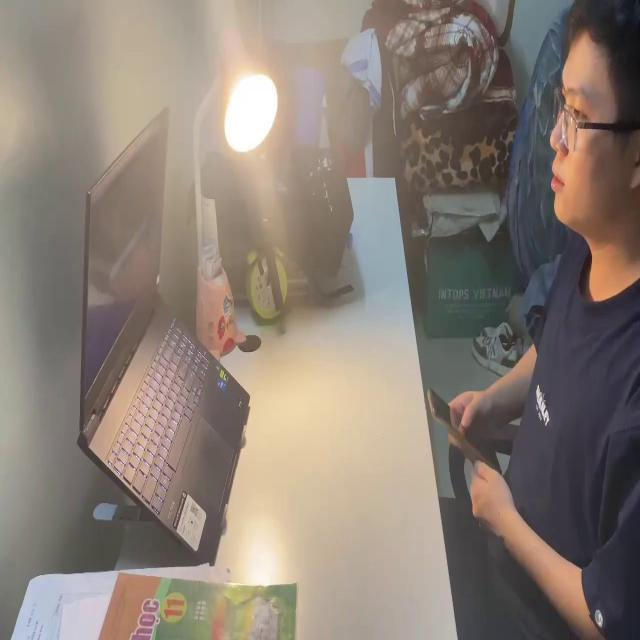book: (7, 566, 297, 640)
laptop: (77, 101, 249, 561)
phone: (426, 380, 502, 498)
student: (432, 0, 640, 640)
